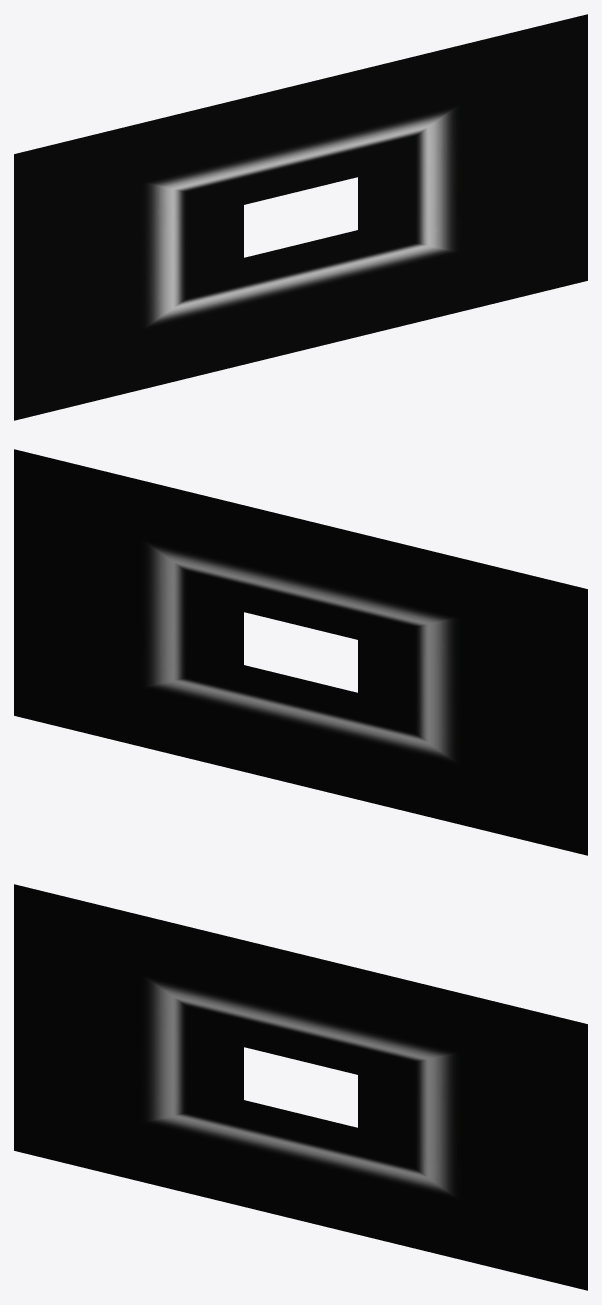
File: pref_fxui_finalgame_screen_flicker.fbx
3 renders of one model, top to bottom at view 1: azimuth 30°, elevation 25°; view 2: azimuth 150°, elevation 25°; view 3: azimuth 330°, elevation 25°, orthographic.
Parts seen in each view (by area): view 1: biankuang3; view 2: biankuang3; view 3: biankuang3.
Boxes of the visible parts, x1,y1,x2,y2 form: biankuang3: [14, 14, 587, 420]; biankuang3: [14, 449, 587, 855]; biankuang3: [14, 884, 587, 1290].
Bounding box in the file's own units: 5490 × 2437 × 0.000706.
Materials: 1 (1 with a texture image).
